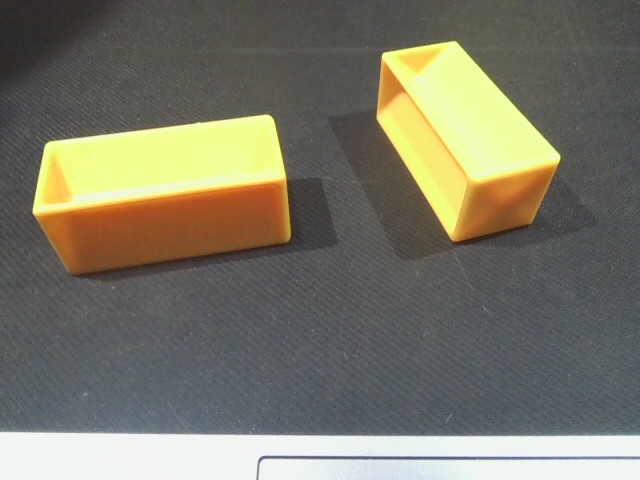YellowSample: (25, 112, 297, 280), (370, 38, 563, 249)
